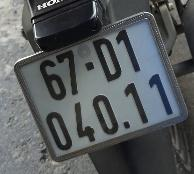0: (88, 91, 123, 138), (42, 107, 76, 154)
1: (120, 79, 152, 128), (113, 27, 144, 76), (144, 72, 175, 119)
4: (66, 98, 100, 146)
6: (34, 56, 71, 105)
7: (54, 48, 91, 97)
D: (89, 33, 128, 85)
